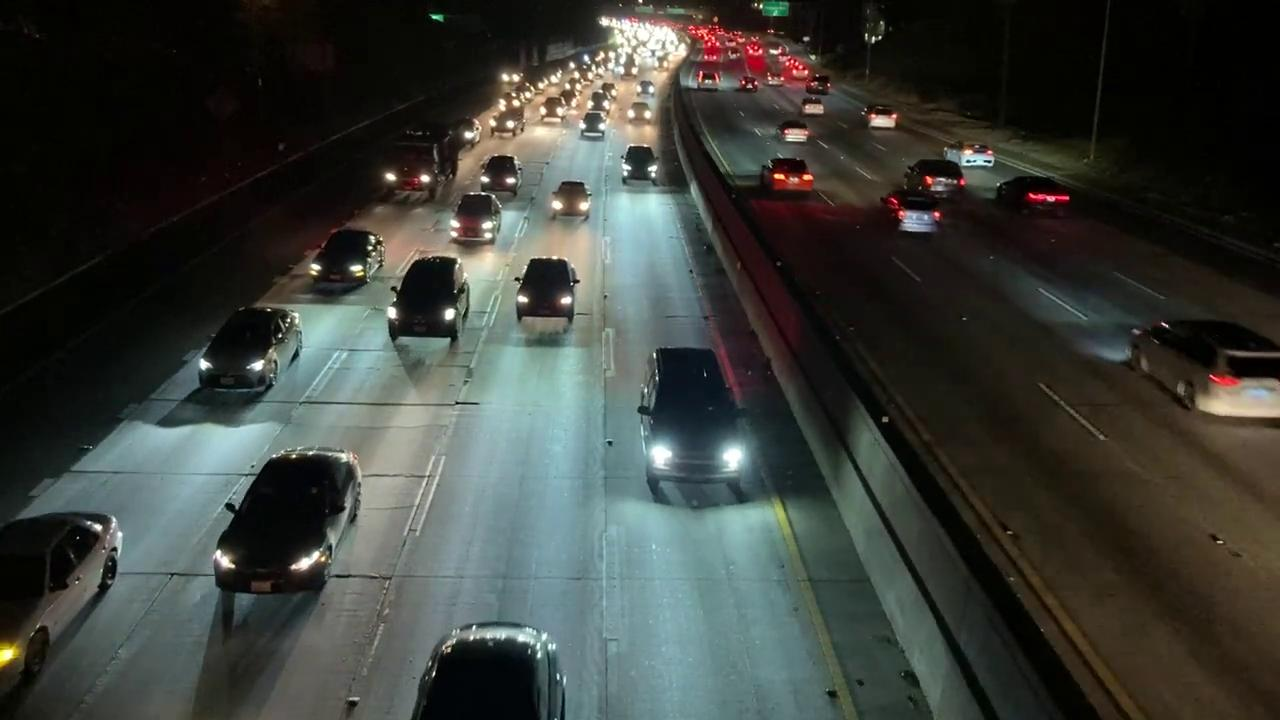car: (208, 450, 371, 596), (0, 511, 127, 690), (402, 615, 573, 715), (638, 340, 748, 494), (1123, 324, 1275, 421), (196, 306, 302, 395), (390, 253, 470, 343), (303, 228, 384, 291), (513, 258, 580, 320), (993, 176, 1077, 215), (449, 194, 501, 245), (883, 194, 940, 235), (906, 161, 969, 197), (765, 159, 818, 195), (476, 157, 520, 197), (552, 180, 592, 219), (621, 144, 656, 185), (776, 119, 809, 145), (866, 104, 898, 129), (580, 111, 610, 133)
truck: (383, 121, 463, 199)
